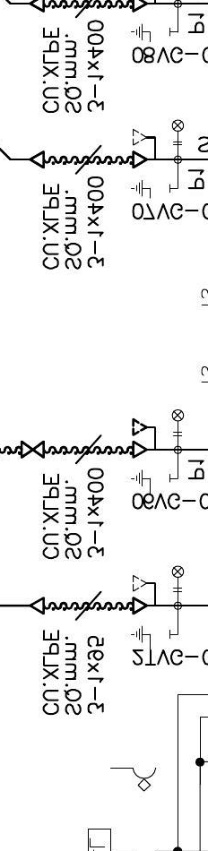22_gs: (130, 626, 171, 651), (130, 469, 171, 494), (131, 178, 172, 200), (130, 23, 171, 44)
22_ll: (171, 565, 185, 593), (171, 409, 185, 437), (172, 118, 185, 146)
terminator_single: (29, 150, 46, 170), (29, 595, 46, 615)
terminator_splicing_kits: (20, 440, 45, 459)
terminator_w_future: (131, 127, 158, 169), (132, 574, 158, 616), (131, 418, 157, 460)
